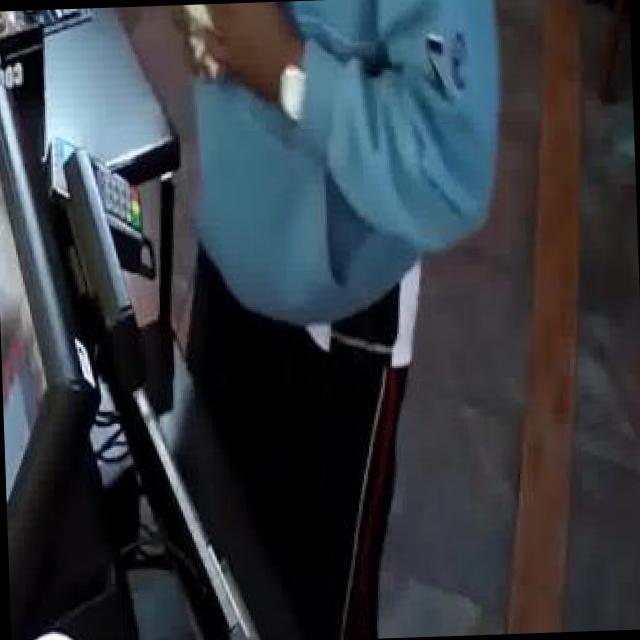Guns: (159, 0, 306, 28)
